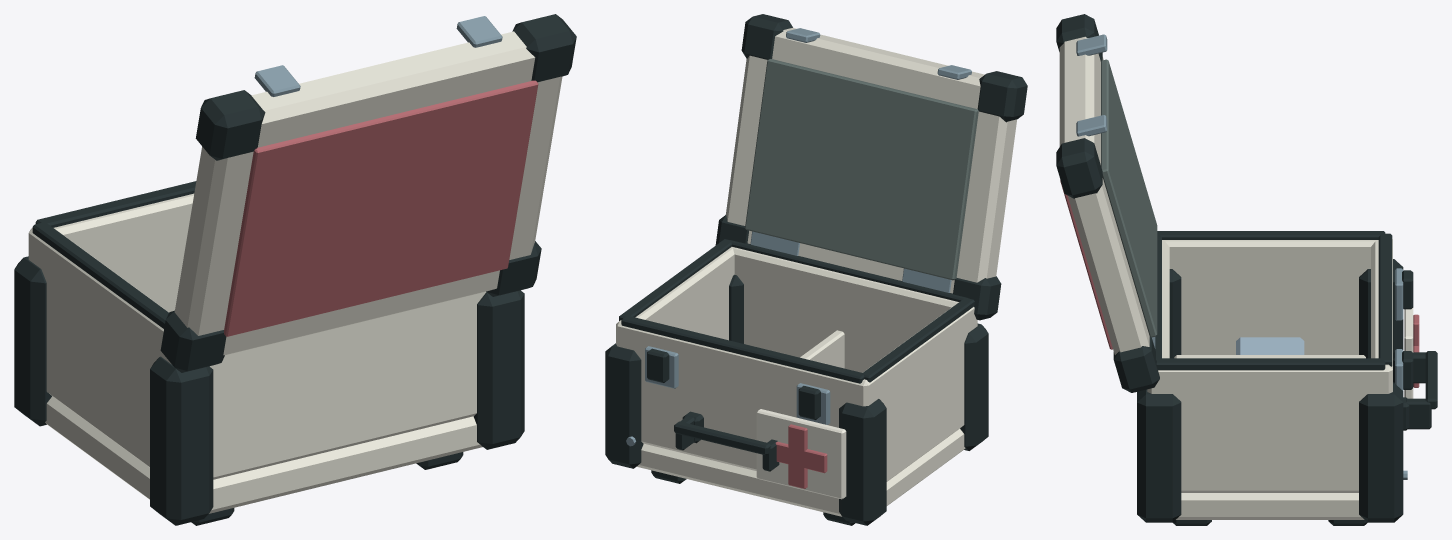
File: field_medical_chest_opened.glb
3 views of the same model, side by side, from view 1: azimuth 30°, elevation 25°; view 2: azimuth 150°, elevation 25°; view 3: azimuth 270°, elevation 25° (orthographic). The views are drawn at different scales.
Visible parts, largest first — view 1: moving_lid_inset, moving_lid_shell, body_back_wall, corner_guard (×3), body_left_wall, body_floor, moving_lid_corner (×4), body_front_wall, gasket_side, moving_latch_hook (×2), gasket_front; view 2: moving_lid_inner_pad, moving_lid_shell, body_back_wall, body_front_wall, corner_guard (×4), body_left_wall, body_floor, moving_lid_corner (×4), body_right_wall, front_identity_panel, gasket_side (×2), gasket_front (+8 smaller); view 3: body_right_wall, body_left_wall, corner_guard (×4), moving_lid_shell, moving_lid_inner_pad, moving_lid_corner (×3), gasket_side (×2), body_floor, gasket_front, body_front_wall, medicine_placeholder, moving_latch_hook (×2) (+8 smaller).
Boxes of the visible parts, <box> form: moving_lid_inset: <box>224,80,538,336</box>; moving_lid_shell: <box>174,31,562,355</box>; body_back_wall: <box>167,291,486,479</box>; corner_guard (×3): <box>14,256,524,525</box>; body_left_wall: <box>28,228,171,467</box>; body_floor: <box>45,396,482,513</box>; moving_lid_corner (×4): <box>160,14,576,372</box>; body_front_wall: <box>28,193,193,312</box>; gasket_side: <box>32,222,168,328</box>; moving_latch_hook (×2): <box>254,16,502,96</box>; gasket_front: <box>35,181,196,227</box>; moving_lid_inner_pad: <box>745,59,978,280</box>; moving_lid_shell: <box>726,28,1016,293</box>; body_back_wall: <box>733,247,974,372</box>; body_front_wall: <box>618,320,874,470</box>; corner_guard (×4): <box>605,274,988,525</box>; body_left_wall: <box>852,302,977,481</box>; body_floor: <box>637,428,965,516</box>; moving_lid_corner (×4): <box>715,14,1027,320</box>; body_right_wall: <box>616,247,734,348</box>; front_identity_panel: <box>756,409,846,499</box>; gasket_side (×2): <box>619,239,974,382</box>; gasket_front: <box>621,316,864,383</box>; body_right_wall: <box>1147,364,1392,492</box>; body_left_wall: <box>1162,239,1392,354</box>; corner_guard (×4): <box>1137,259,1403,522</box>; moving_lid_shell: <box>1059,36,1149,354</box>; moving_lid_inner_pad: <box>1101,59,1157,337</box>; moving_lid_corner (×3): <box>1056,14,1159,392</box>; gasket_side (×2): <box>1156,231,1385,370</box>; body_floor: <box>1176,493,1364,519</box>; gasket_front: <box>1378,233,1392,366</box>; body_front_wall: <box>1371,239,1392,393</box>; medicine_placeholder: <box>1236,337,1304,354</box>; moving_latch_hook (×2): <box>1076,34,1107,136</box>.
Size of the model in its own units: 1 by 1.27 by 1.12.
